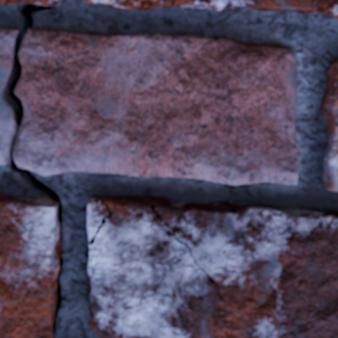brick: (87, 197, 337, 337), (0, 195, 60, 337), (85, 0, 337, 17), (322, 60, 337, 191), (0, 0, 62, 5)
broken_brick: (16, 28, 300, 185), (0, 28, 21, 92), (0, 97, 13, 165)
crack: (0, 2, 64, 335), (88, 203, 113, 246), (74, 170, 112, 174), (162, 175, 182, 178), (267, 181, 274, 183)
